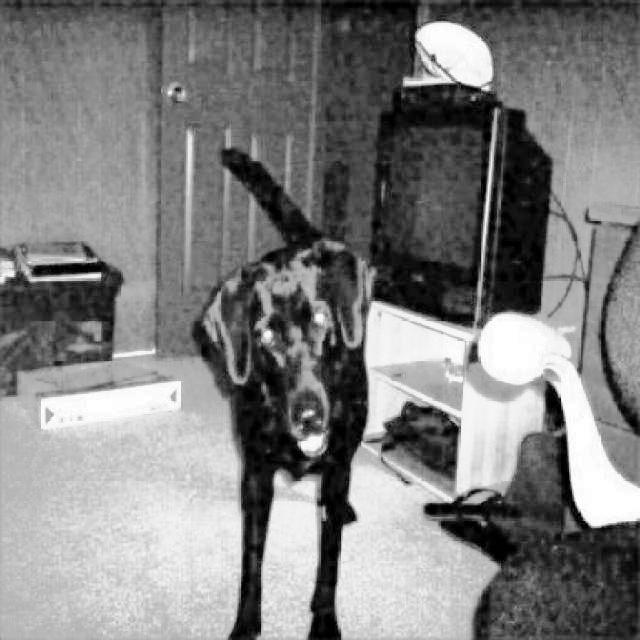Dog: (197, 141, 368, 640)
